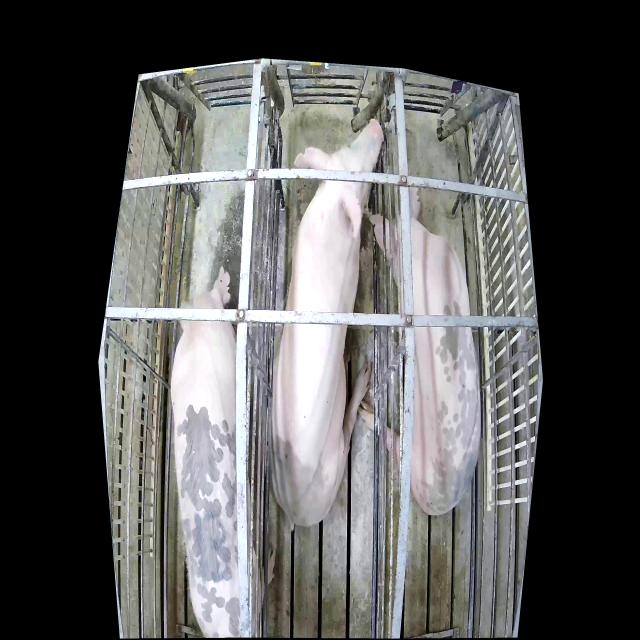pig: (269, 117, 384, 526), (360, 166, 480, 514), (171, 264, 276, 636)
